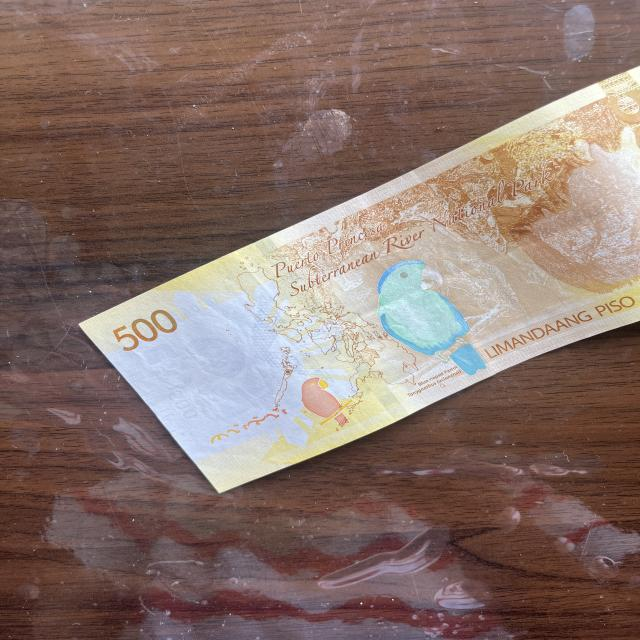500_big_parrot: (374, 258, 494, 374)
500_parrot_watermark: (297, 372, 355, 434)
value_watermark: (166, 389, 200, 420)
watermark: (159, 317, 283, 422)
